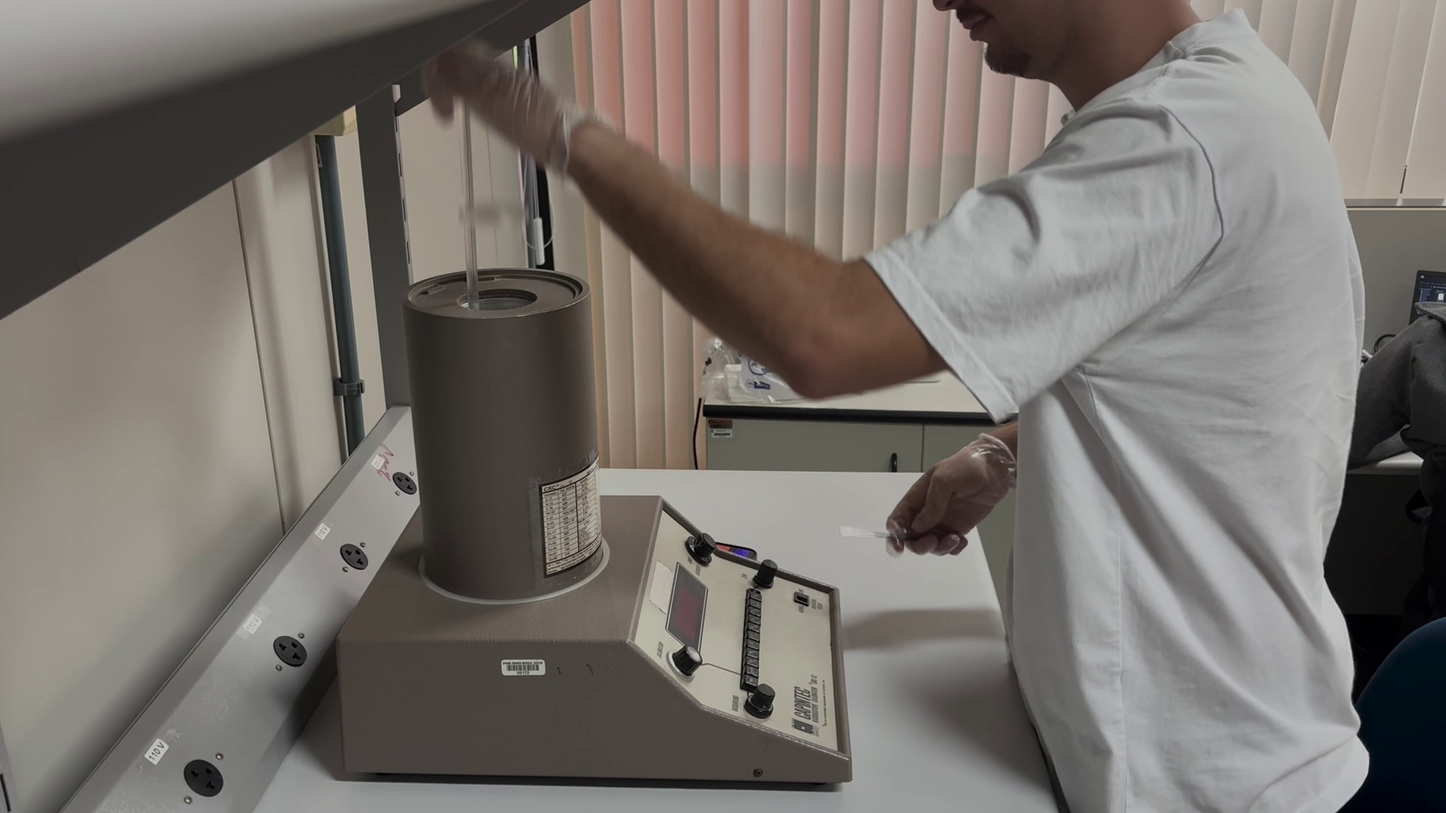Ativimetro: (398, 267, 609, 606)
Com_Luva: (430, 37, 593, 166), (886, 432, 1017, 564)
